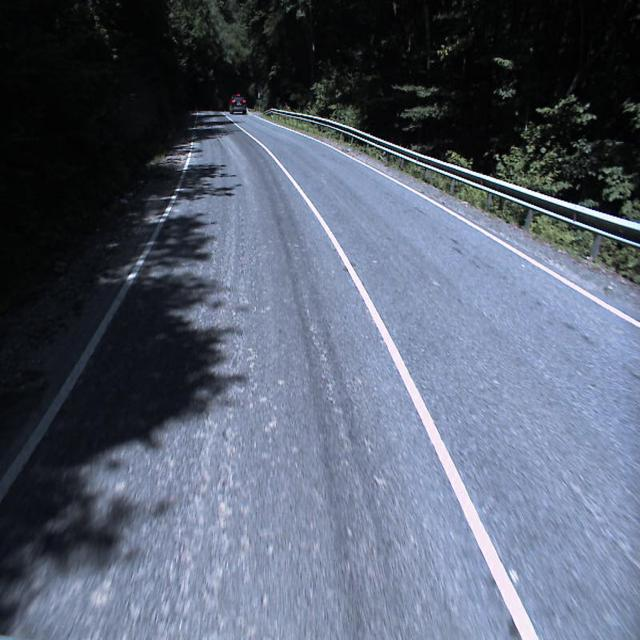road: (0, 110, 640, 639)
